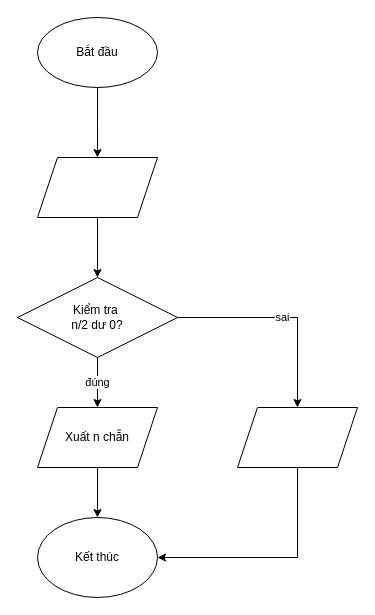
Some shapes in this 375 by 615 pixel diagram are drawn without their labels. The shapes that lost their labels are listed below. From the top down, each one's centre as x and y in pixels, then its label:
At (x=97, y=187): "Nhập n".
At (x=297, y=437): "Xuất n lẻ".
